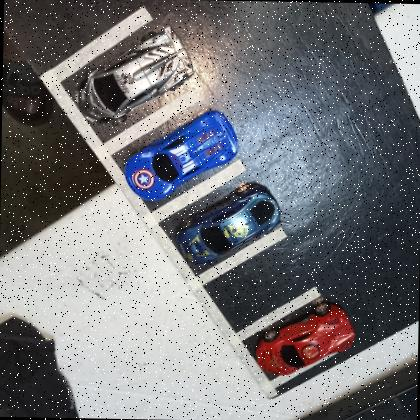Car: (73, 22, 198, 127), (123, 106, 240, 204), (172, 181, 282, 268), (253, 301, 356, 378)
